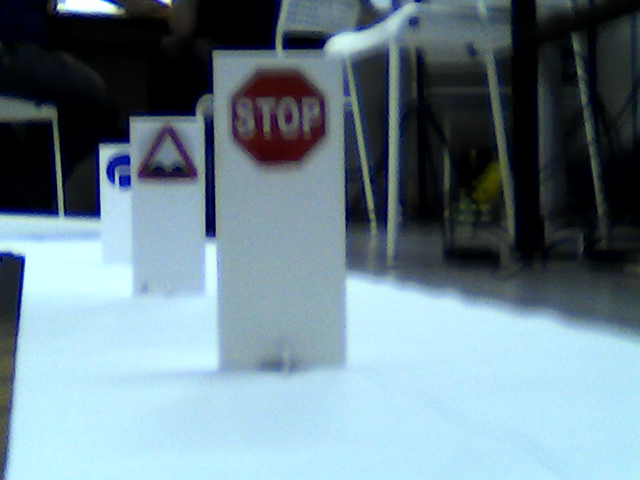Nerov: (134, 123, 198, 181)
Stop: (227, 71, 339, 172)
